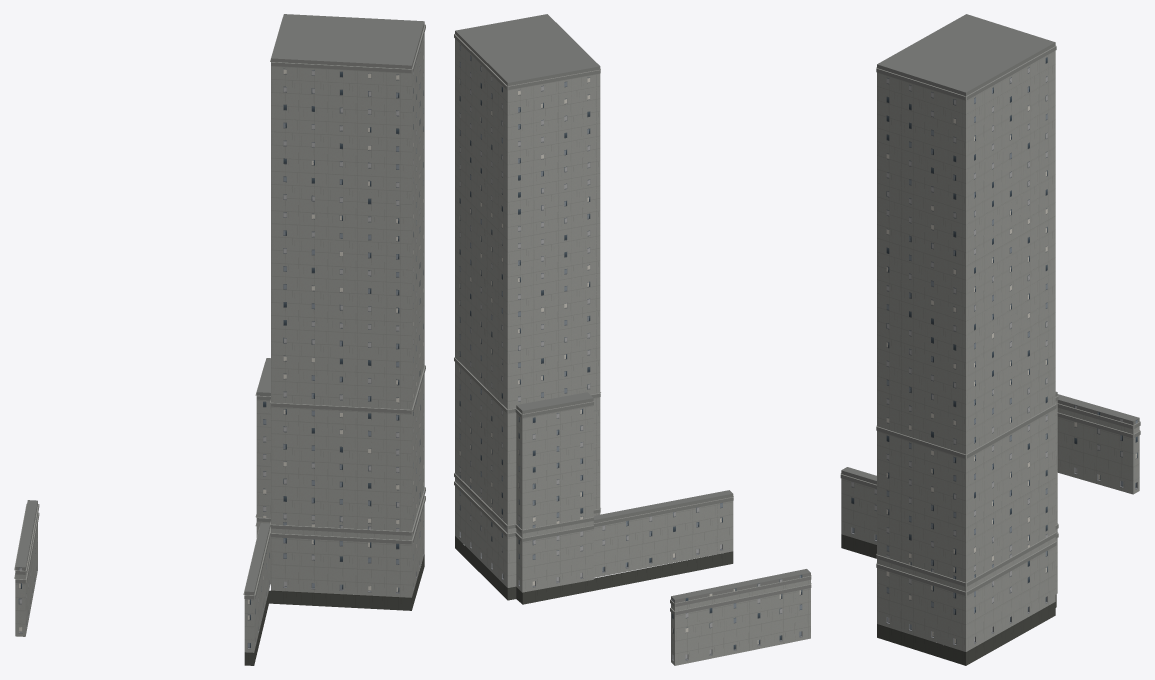
File: swissmill_turm.glb
3 renders of one model, left to right at view 1: azimuth 30°, elevation 25°; view 2: azimuth 150°, elevation 25°; view 3: azimuth 270°, elevation 25°, orthographic. The views are drawn at different scales.
Parts seen in each view (by area): view 1: swissmill_turm; view 2: swissmill_turm; view 3: swissmill_turm.
Part boxes in pixels (box(x1,y1,x2,y2)): swissmill_turm: box(14, 14, 425, 665); swissmill_turm: box(454, 14, 811, 665); swissmill_turm: box(840, 14, 1140, 665).
Bounding box in the file's own units: 94.25 × 125 × 59.24.
Materials: 3 (3 with a texture image).
